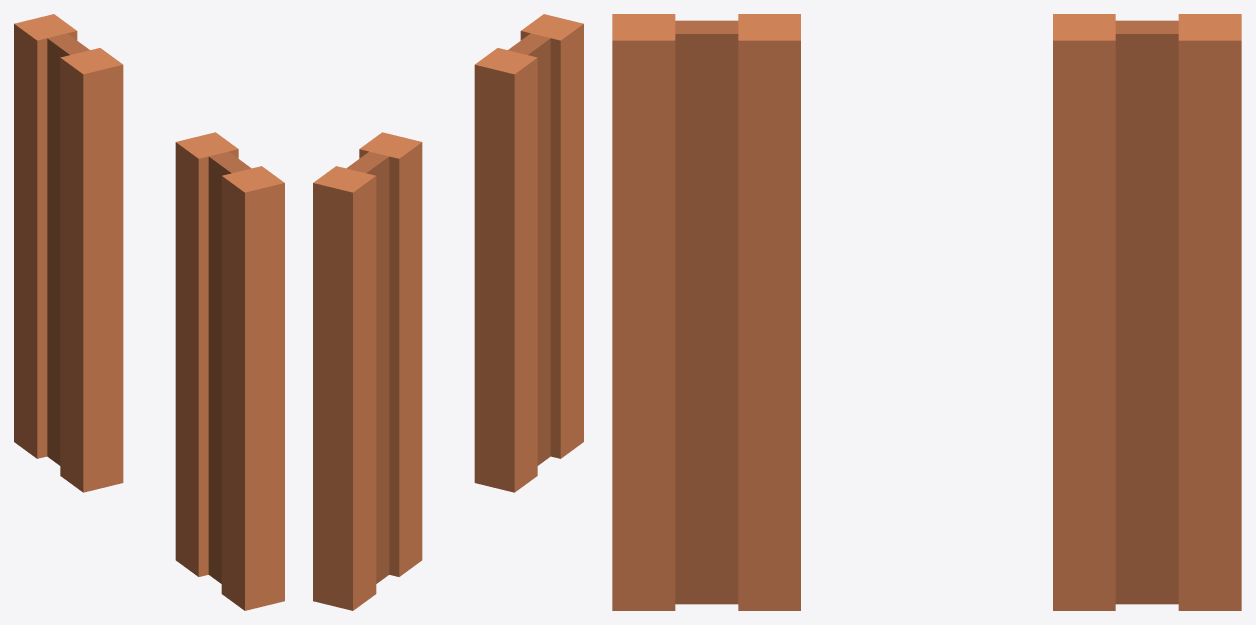
File: wallWoodDoorwayBase.obj
The picture shows the model from 3 angles, left to right: view 1: azimuth 30°, elevation 25°; view 2: azimuth 150°, elevation 25°; view 3: azimuth 270°, elevation 25°; orthographic projection. The views are drawn at different scales.
Parts seen in each view (by area): view 1: wallWoodDoorwayBase; view 2: wallWoodDoorwayBase; view 3: wallWoodDoorwayBase.
Part boxes in pixels (box(x1,y1,x2,y2)): wallWoodDoorwayBase: box(14, 14, 284, 610); wallWoodDoorwayBase: box(313, 14, 583, 610); wallWoodDoorwayBase: box(612, 14, 1241, 610).
Size of the model in its own units: 0.1 by 1 by 1.
